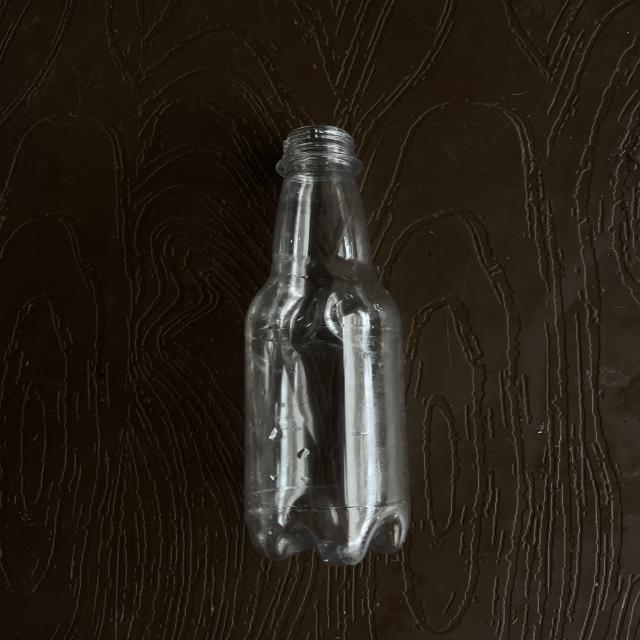PET_With_Liquid: (246, 127, 409, 564)
